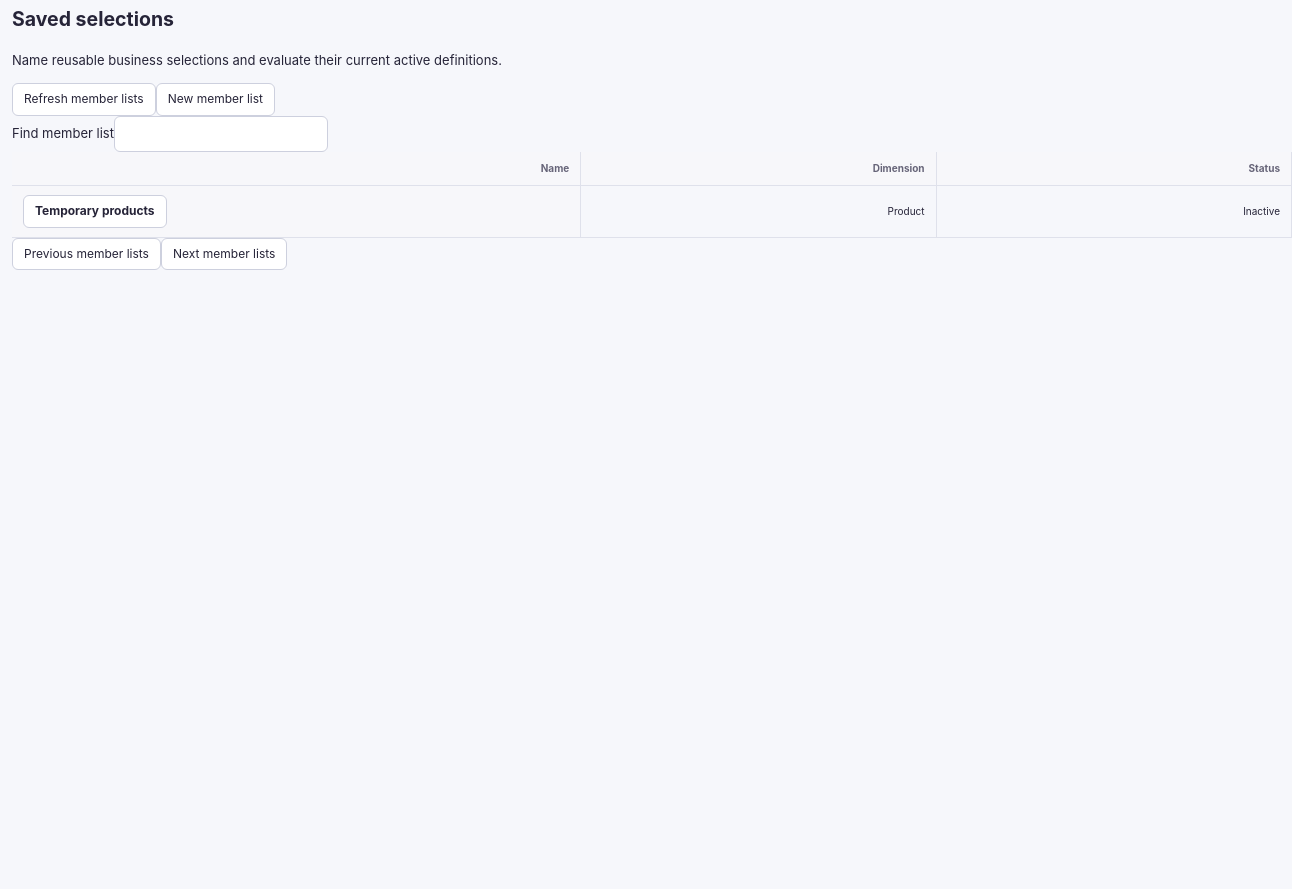
deletes an unbound current member list with its exact state token when refused
Click the button "Temporary products" at (95,211), box [23,195,167,228]
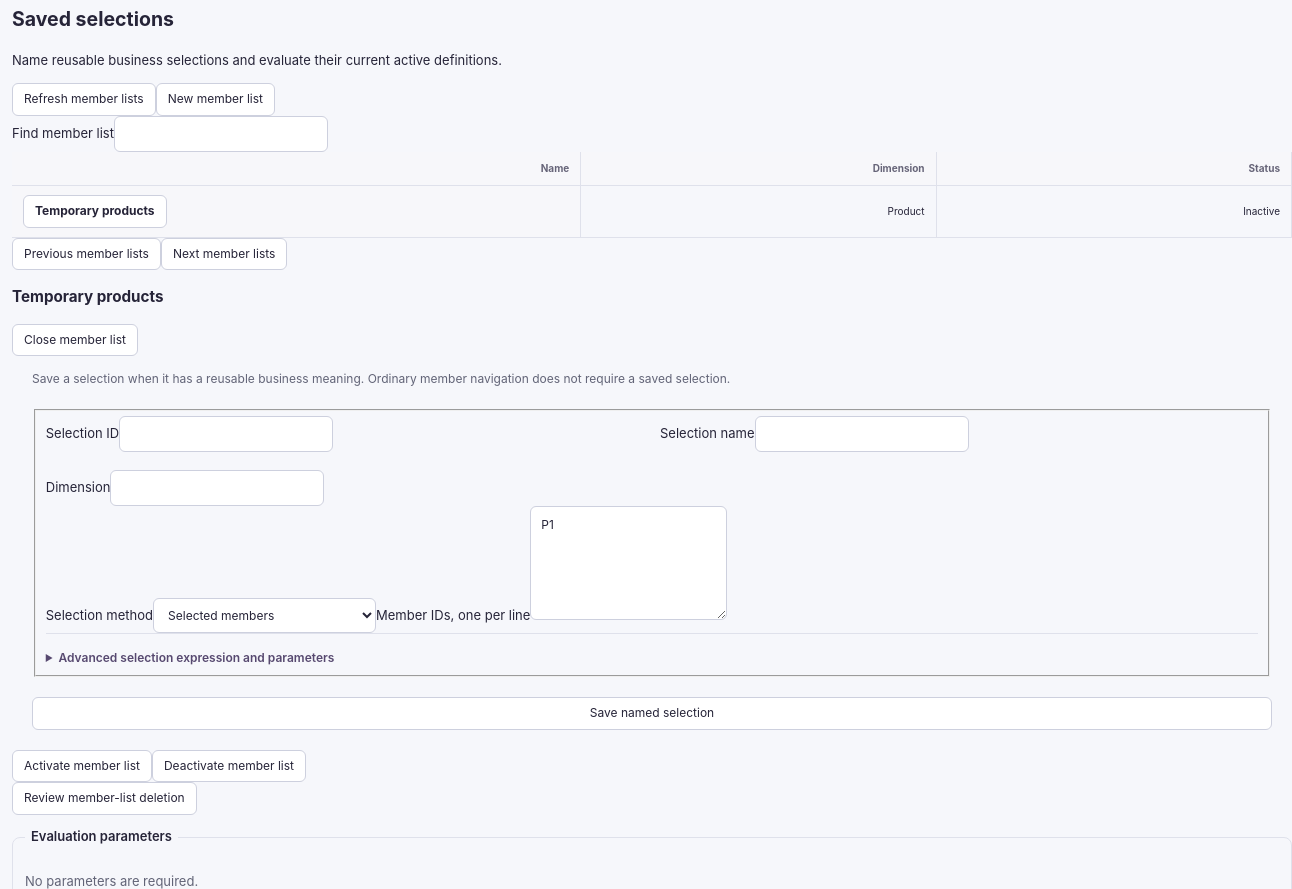
Click the button "Review member-list deletion" at (104,799), box [12,782,197,815]
(page scrolled)
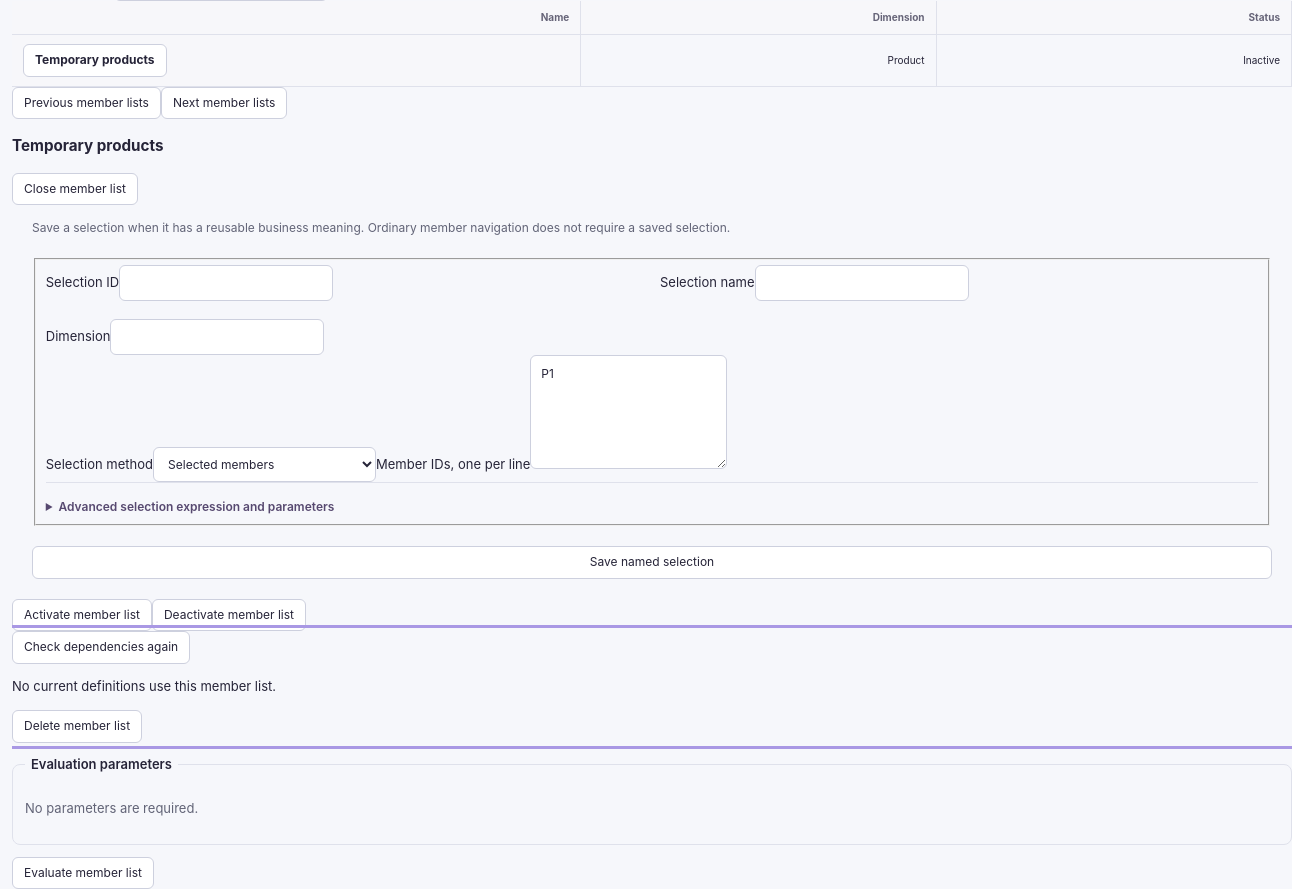
Click the button "Delete member list" at (77,726), box [12,710,142,743]
(page scrolled)
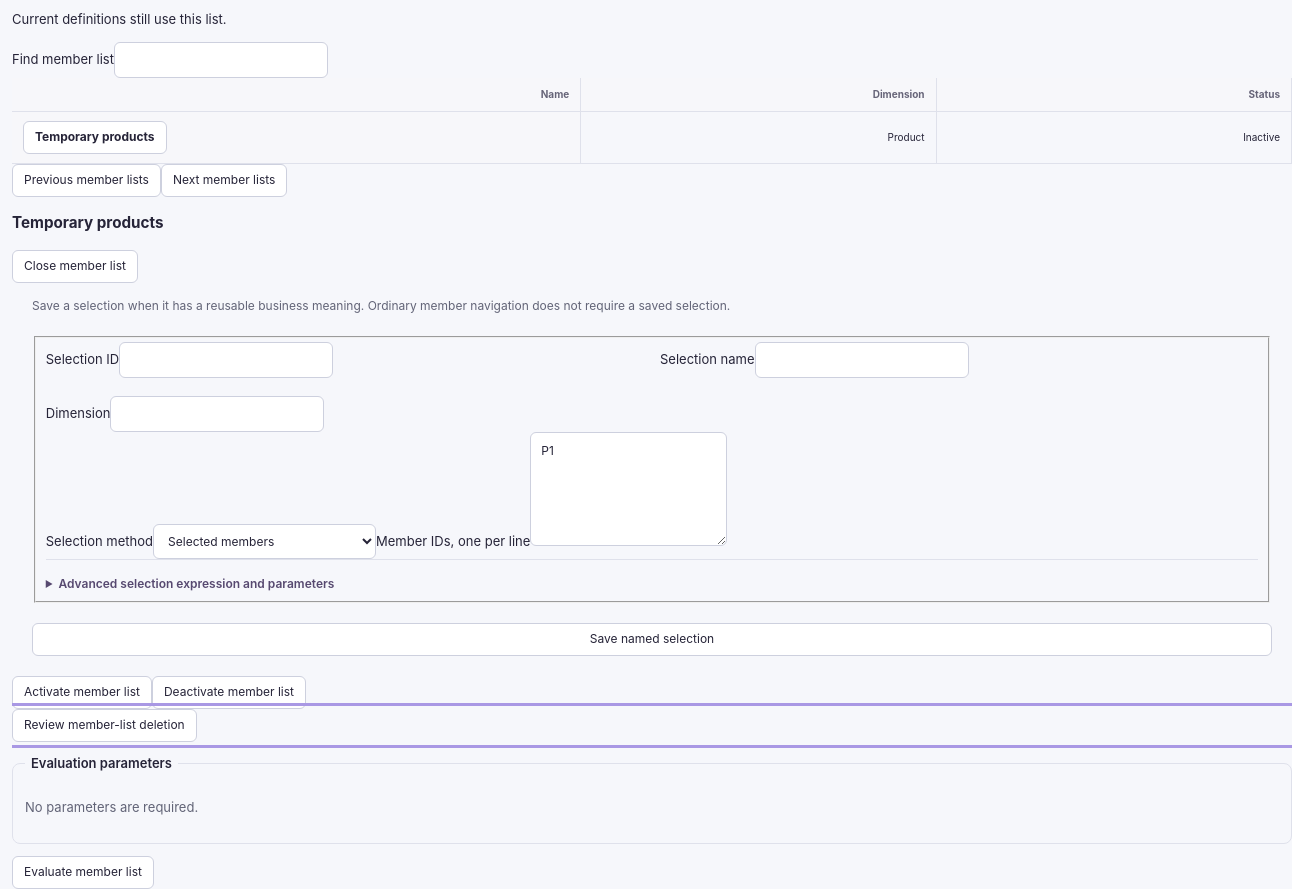
Now the button "Review member-list deletion" is enabled, box [12,709,197,742]
Now the text "Current definitions still use this list." is shown, box [12,11,227,27]
